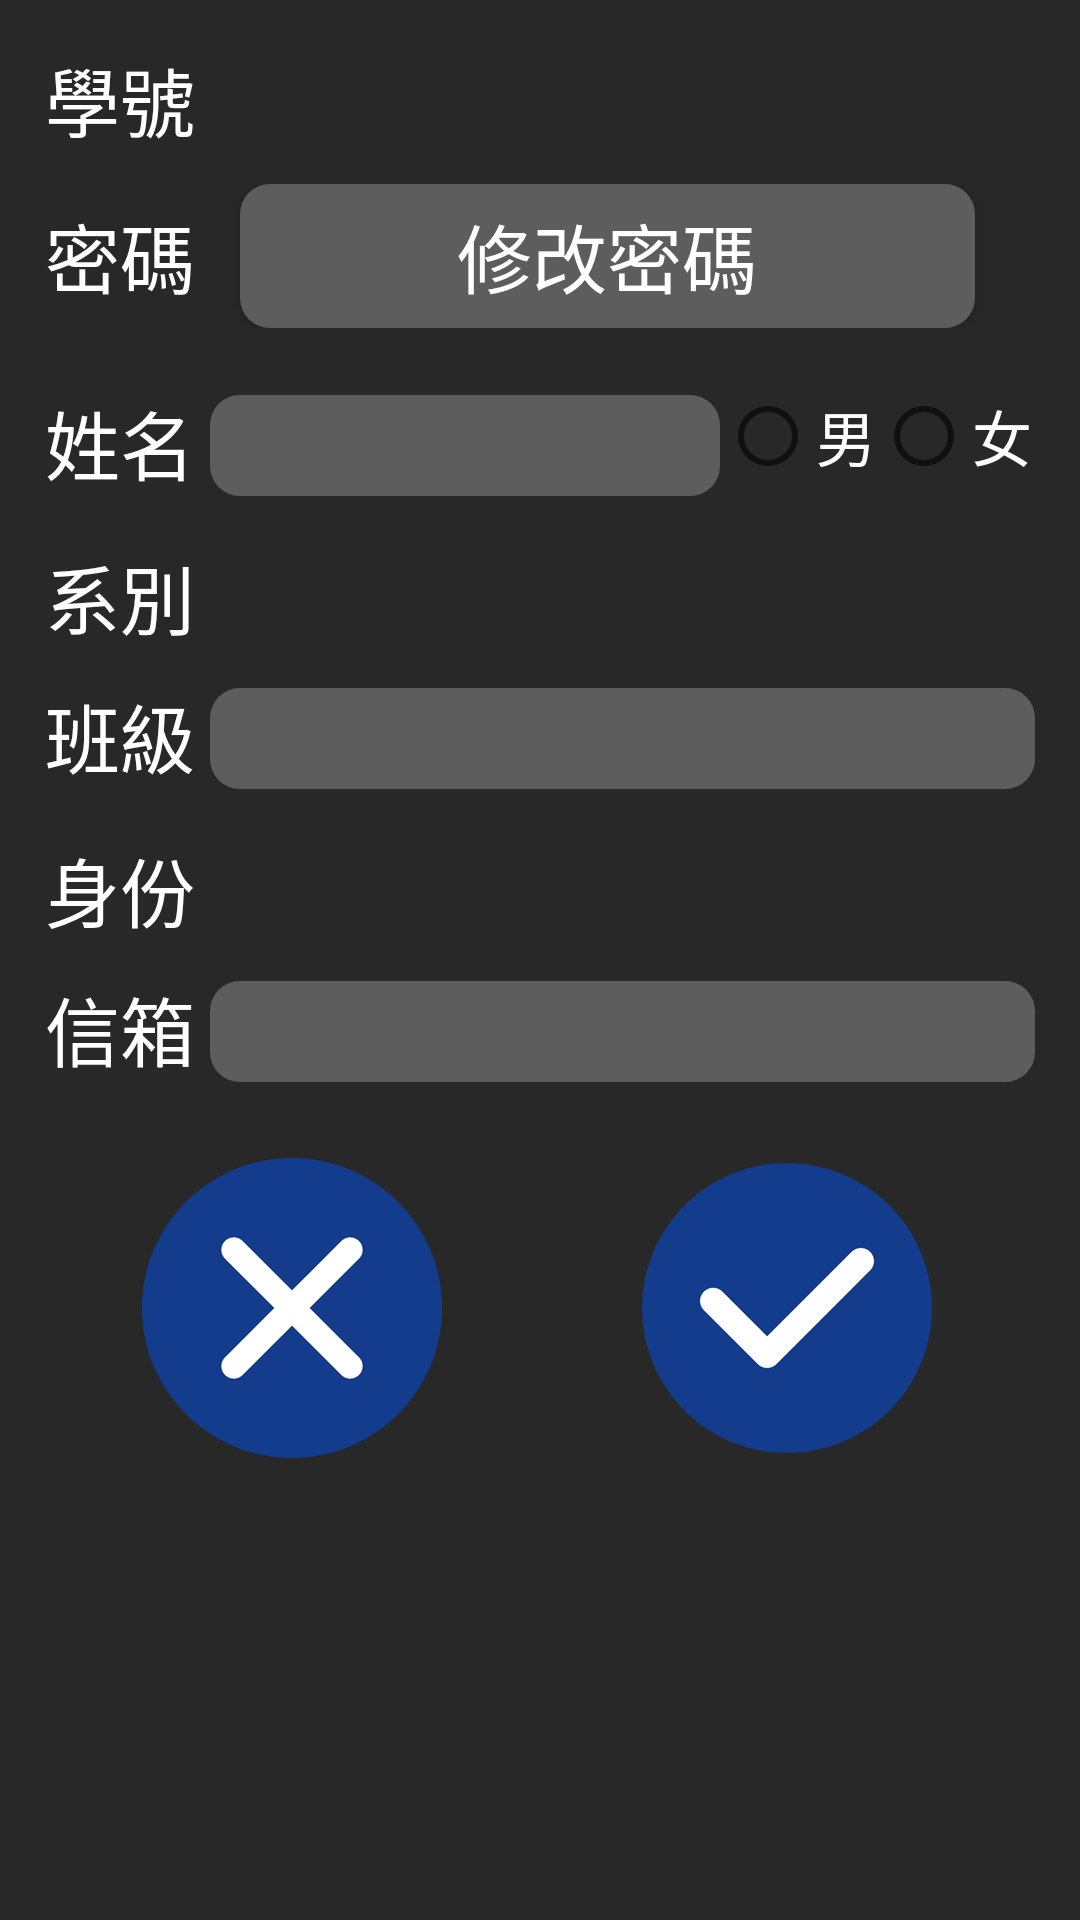

Where to tap for icons on this 1080 x 1920 app screen, as point (x, y):
btnconfirm: point (787, 1308)
